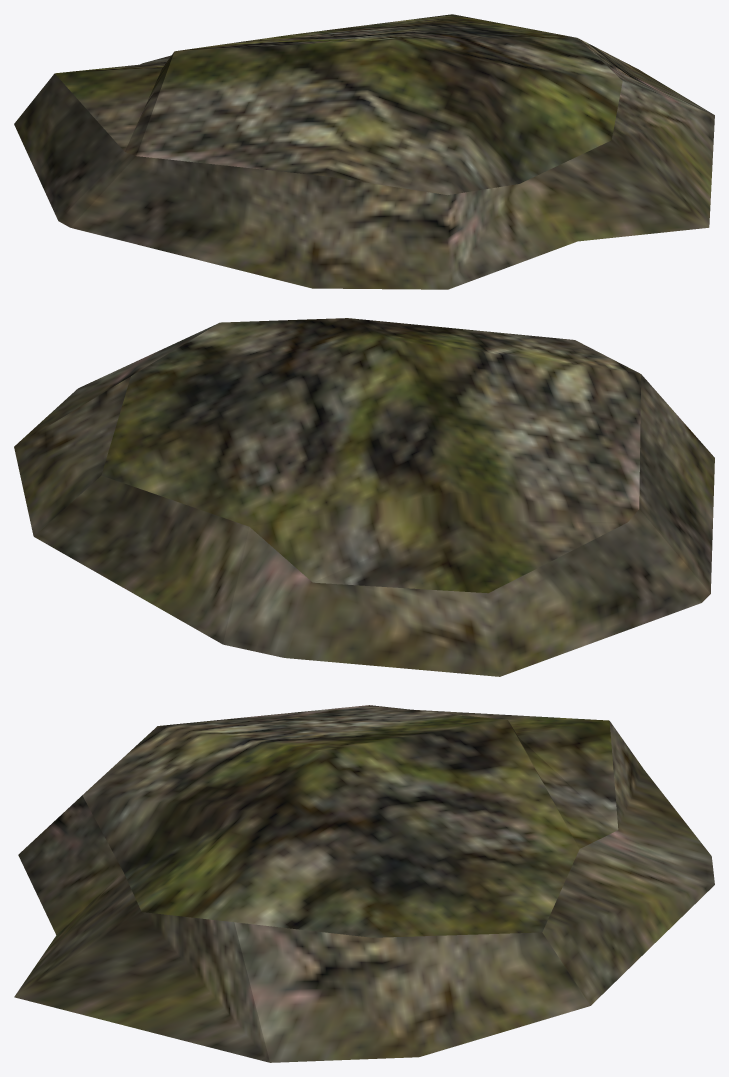
3 renders of one model, top to bottom at view 1: azimuth 30°, elevation 25°; view 2: azimuth 150°, elevation 25°; view 3: azimuth 270°, elevation 25°, orthographic. The views are drawn at different scales.
Parts seen in each view (by area): view 1: wj22; view 2: wj22; view 3: wj22.
Boxes of the visible parts, box(x1,y1,x2,y2) form: wj22: box(14, 14, 714, 289); wj22: box(14, 318, 714, 676); wj22: box(14, 705, 714, 1062).
Size of the model in its own units: 726 by 152 by 652.
